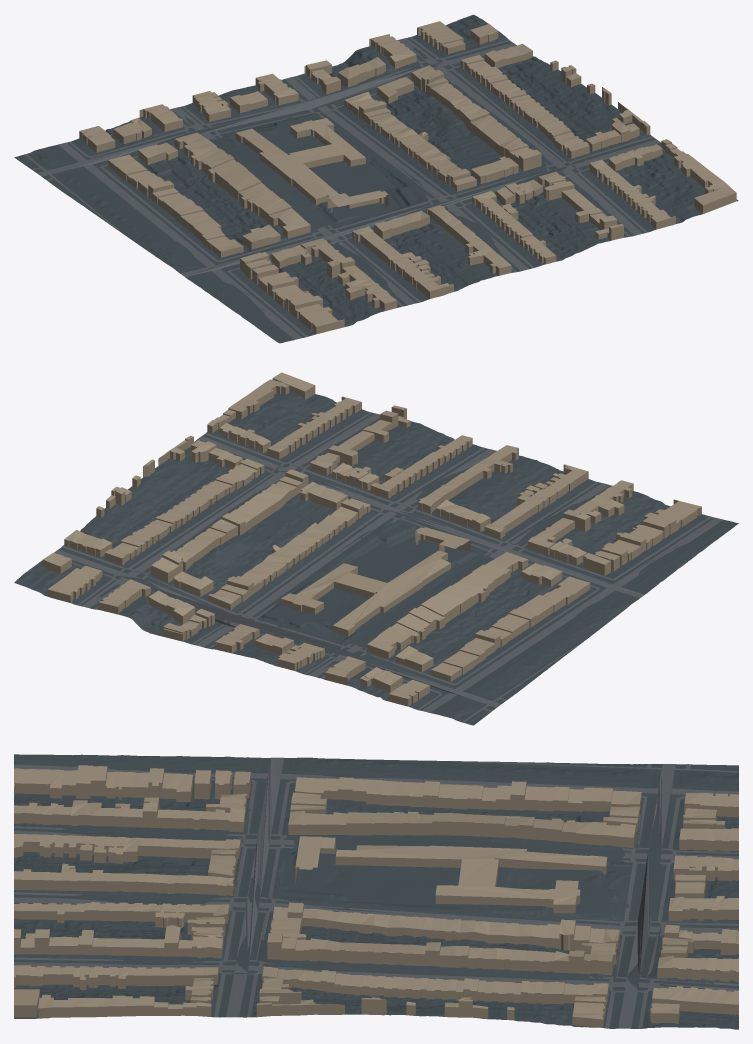
File: epsg26910-1418-10880.lod0.glb
3 renders of one model, top to bottom at view 1: azimuth 30°, elevation 25°; view 2: azimuth 150°, elevation 25°; view 3: azimuth 270°, elevation 25°, orthographic. The views are drawn at different scales.
Parts seen in each view (by area): view 1: epsg26910-1418-10880-lod0; view 2: epsg26910-1418-10880-lod0; view 3: epsg26910-1418-10880-lod0.
Part boxes in pixels (x1,y1,x2,y2): epsg26910-1418-10880-lod0: (14,14,738,343); epsg26910-1418-10880-lod0: (14,372,738,725); epsg26910-1418-10880-lod0: (14,754,738,1029).
Size of the model in its own units: 384 by 42.28 by 384.
